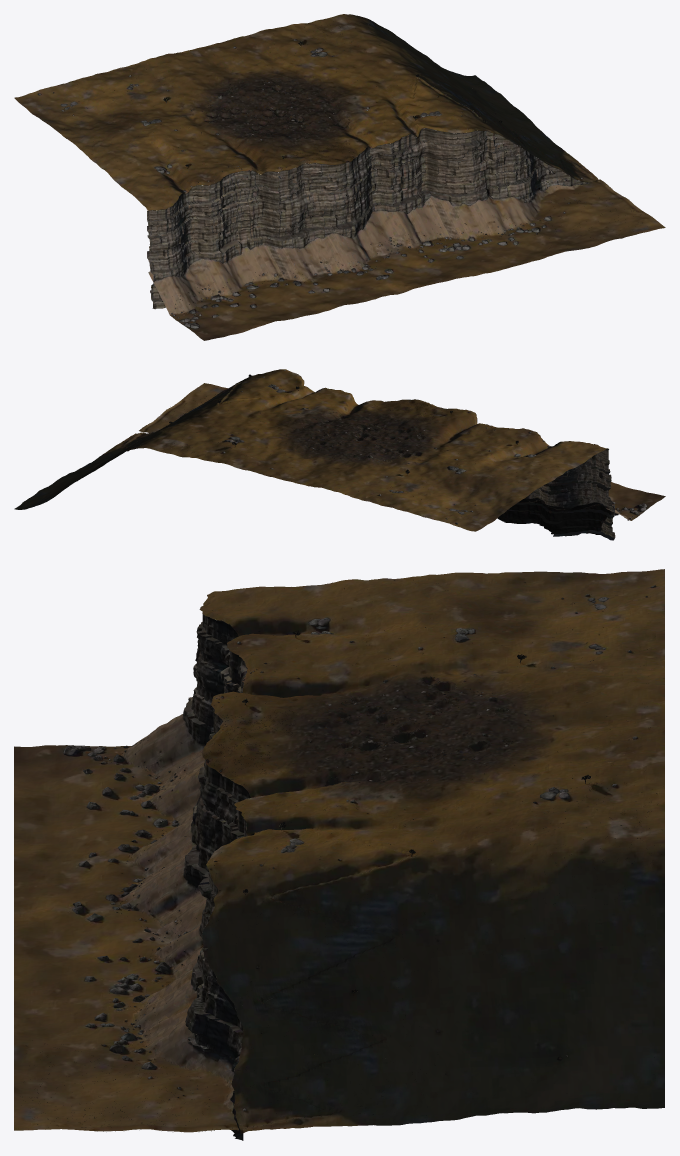
File: highland_low.glb
The picture shows the model from 3 angles, top to bottom: view 1: azimuth 30°, elevation 25°; view 2: azimuth 150°, elevation 25°; view 3: azimuth 270°, elevation 25°; orthographic projection. The views are drawn at different scales.
Parts seen in each view (by area): view 1: site_cliff, site_plateau, props_rocks; view 2: site_plateau, site_cliff, props_rocks, props_scorch; view 3: site_plateau, site_cliff, props_rocks, props_scorch.
Part boxes in pixels (<box>): site_cliff: <box>147,128,665,340</box>; site_plateau: <box>14,14,598,210</box>; props_rocks: <box>38,24,585,328</box>; site_plateau: <box>14,369,608,531</box>; site_cliff: <box>139,383,665,540</box>; props_rocks: <box>127,369,646,524</box>; props_scorch: <box>302,412,425,461</box>; site_plateau: <box>200,569,664,1133</box>; site_cliff: <box>14,595,254,1140</box>; props_rocks: <box>63,582,656,1113</box>; props_scorch: <box>293,676,528,785</box>.
Bounding box in the file's own units: 632 × 154 × 451.
Materials: 6 (6 with a texture image).
